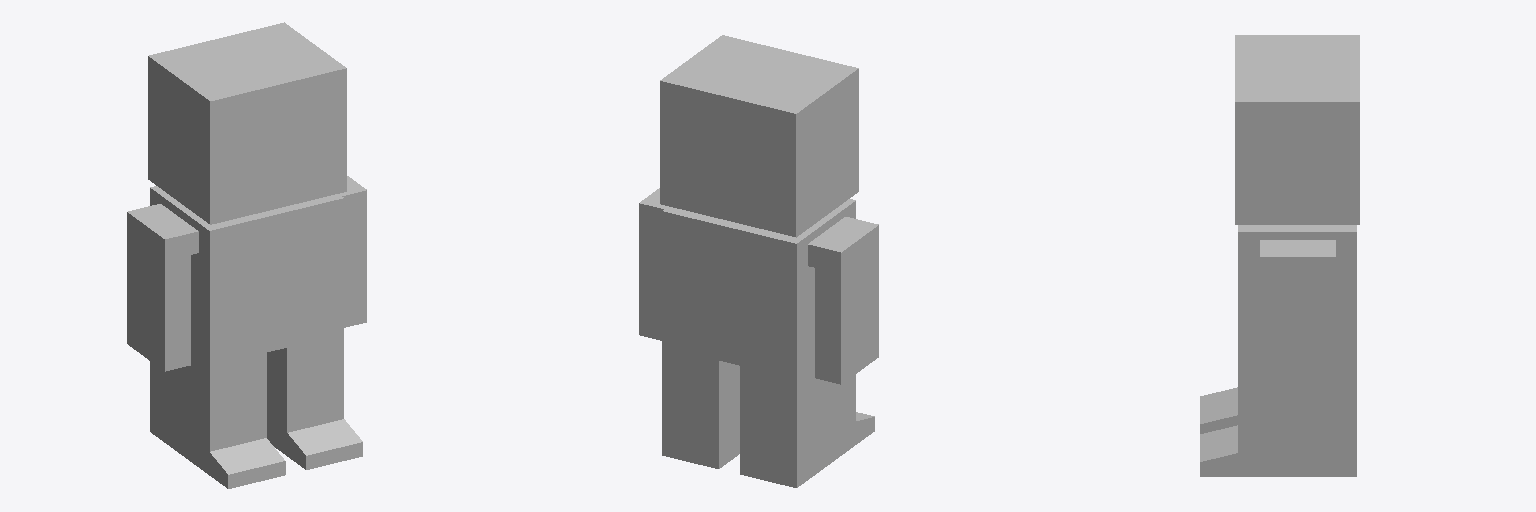
File: Enemy.obj
The picture shows the model from 3 angles: view 1: azimuth 30°, elevation 25°; view 2: azimuth 150°, elevation 25°; view 3: azimuth 270°, elevation 25°; orthographic projection.
Parts seen in each view (by area): view 1: character_box_004; view 2: character_box_004; view 3: character_box_004.
Part boxes in pixels (bbox=[...]): character_box_004: bbox=[127, 22, 366, 488]; character_box_004: bbox=[639, 35, 878, 487]; character_box_004: bbox=[1200, 35, 1359, 476].
Size of the model in its own units: 0.4773 by 0.8453 by 0.3248.